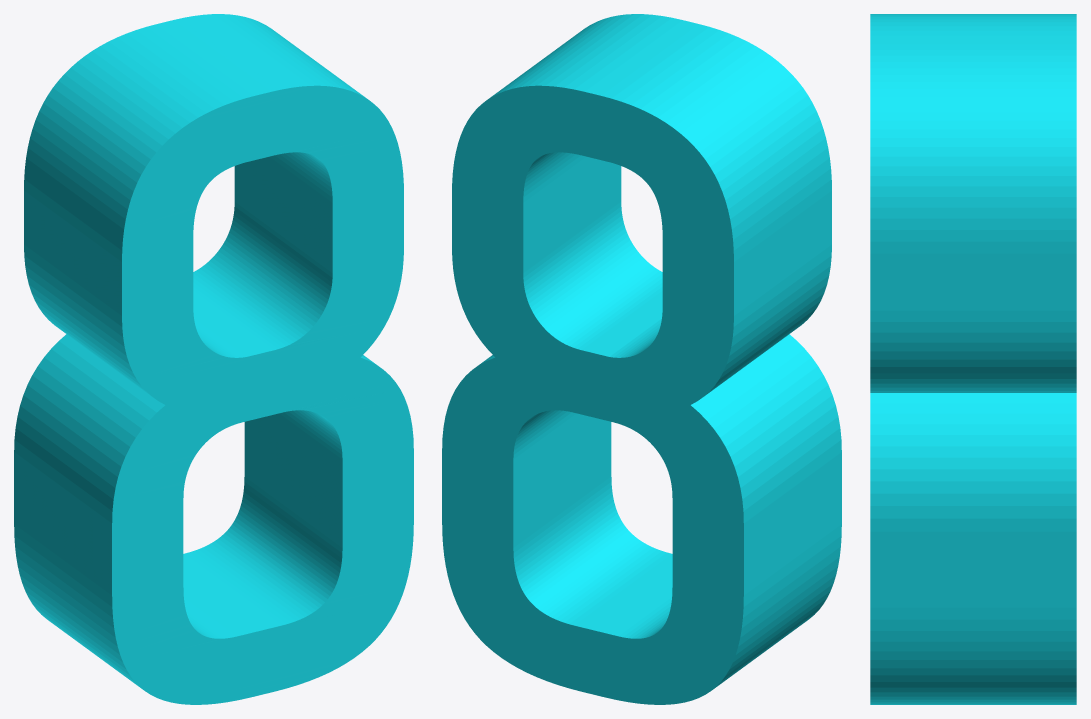
File: digit8.glb
The picture shows the model from 3 angles, left to right: view 1: azimuth 30°, elevation 25°; view 2: azimuth 150°, elevation 25°; view 3: azimuth 270°, elevation 25°; orthographic projection. The views are drawn at different scales.
Parts seen in each view (by area): view 1: Digit8; view 2: Digit8; view 3: Digit8.
Part boxes in pixels (x1,y1,x2,y2): Digit8: [14, 14, 413, 704]; Digit8: [442, 14, 841, 704]; Digit8: [870, 14, 1076, 704].
Size of the model in its own units: 0.3376 by 0.6422 by 0.19.
